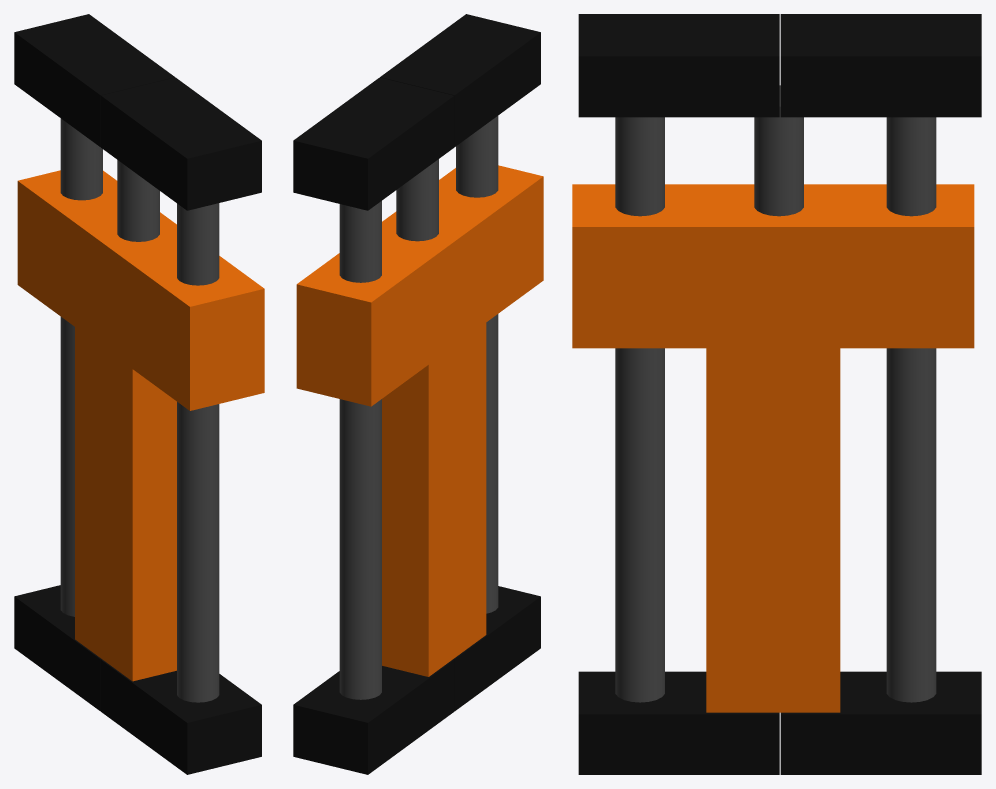
Rendered from Trump gate.FBX.
3 renders of one model, left to right at view 1: azimuth 30°, elevation 25°; view 2: azimuth 150°, elevation 25°; view 3: azimuth 270°, elevation 25°, orthographic. The views are drawn at different scales.
Parts seen in each view (by area): view 1: Box001; view 2: Box001; view 3: Box001.
Part boxes in pixels (bbox=[...]): Box001: bbox=[14, 14, 264, 774]; Box001: bbox=[293, 14, 543, 774]; Box001: bbox=[572, 14, 981, 774].
Bounding box in the file's own units: 29.53 × 233 × 120.
